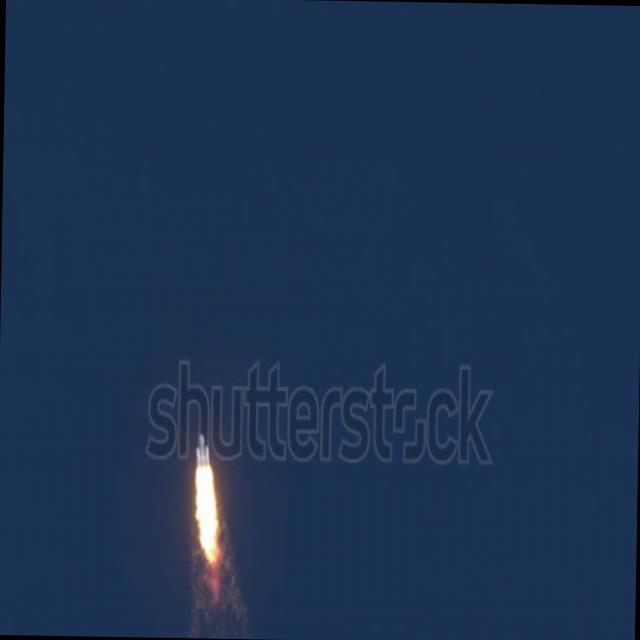rocket: (192, 426, 224, 550)
